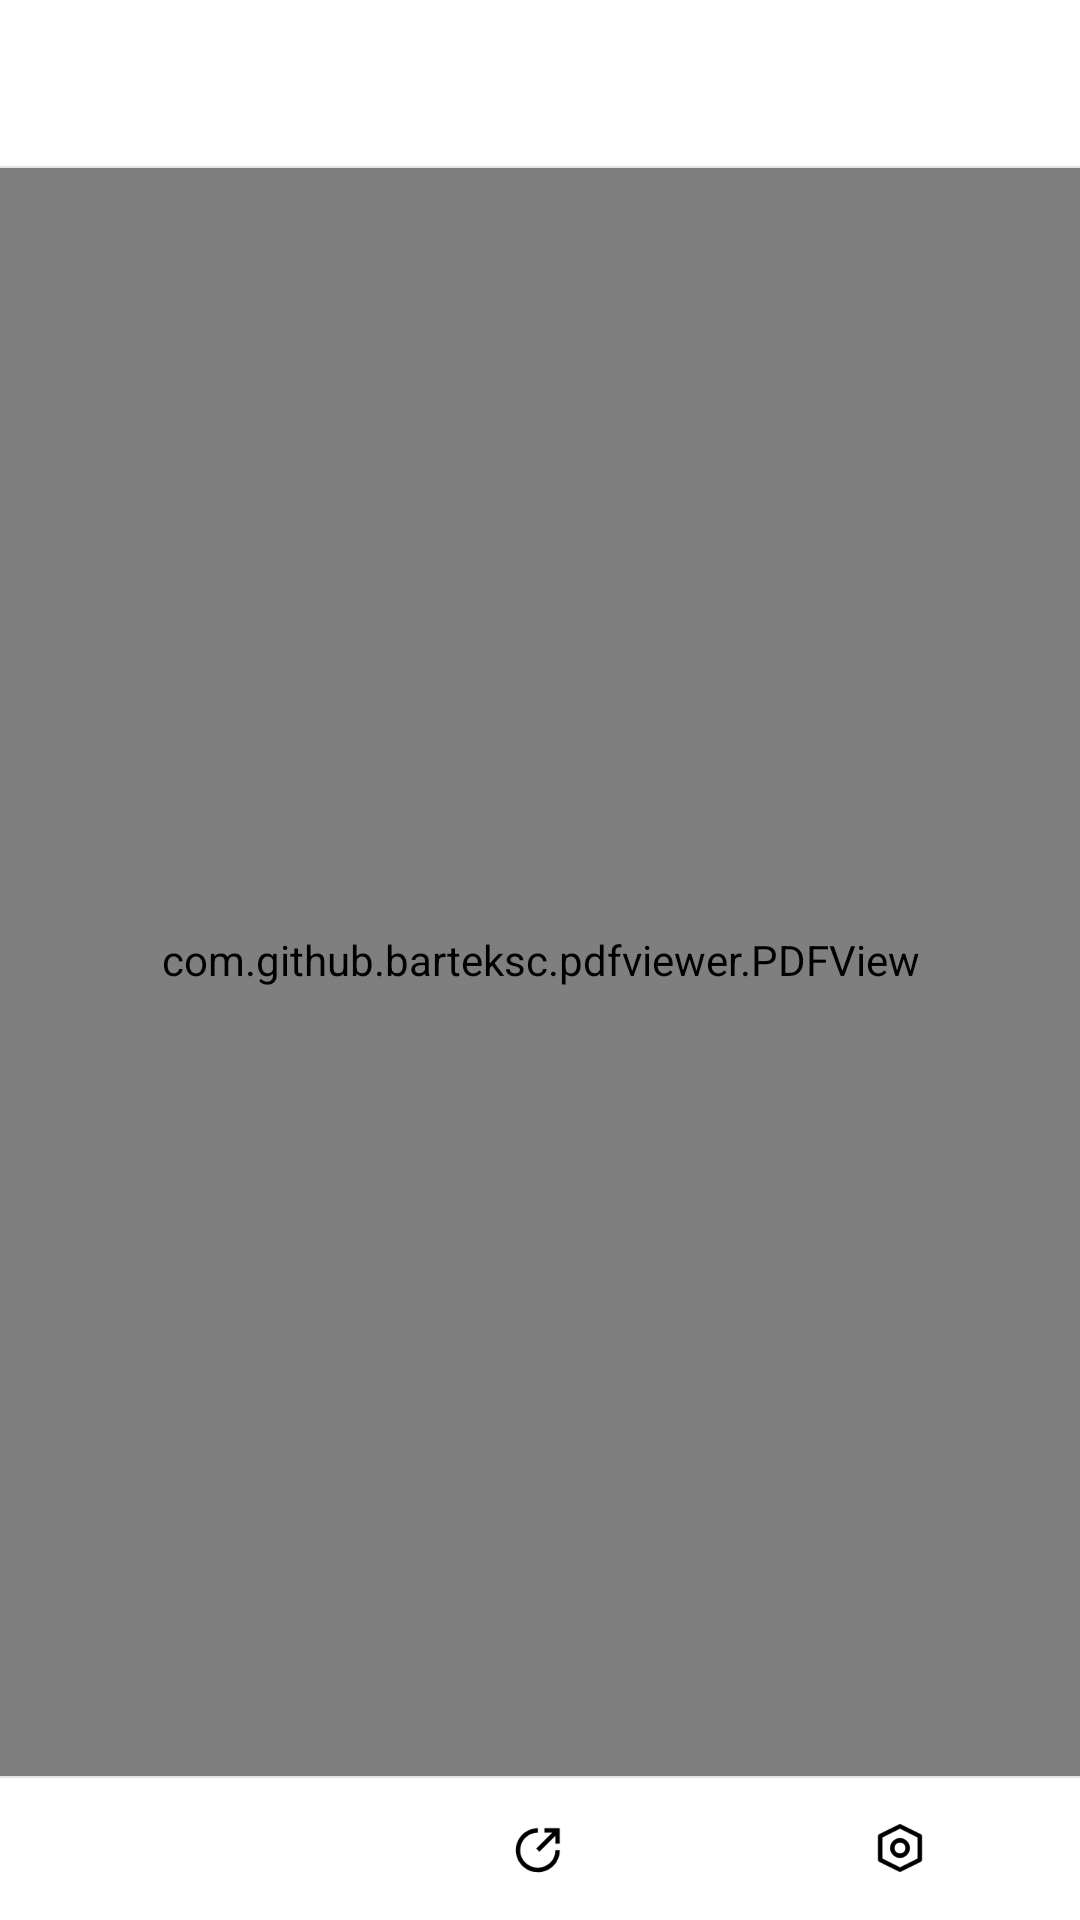

Screen size 1080×1920. Icon name, then its center in pixels as [x,y]:
reader bottombar settings: [900,1848]
reader bottombar share: [537,1850]
